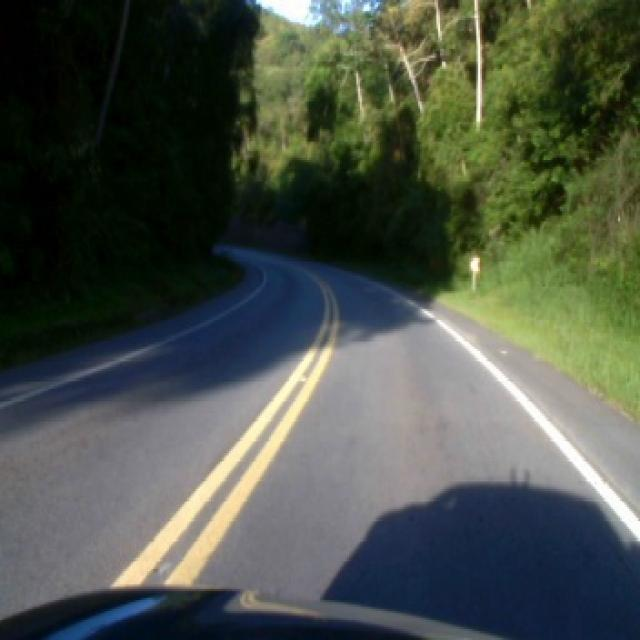Poth-hole: (296, 373, 306, 378)
